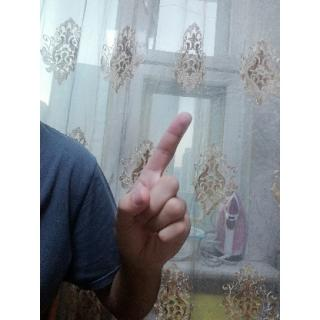BAA: (101, 107, 197, 276)
